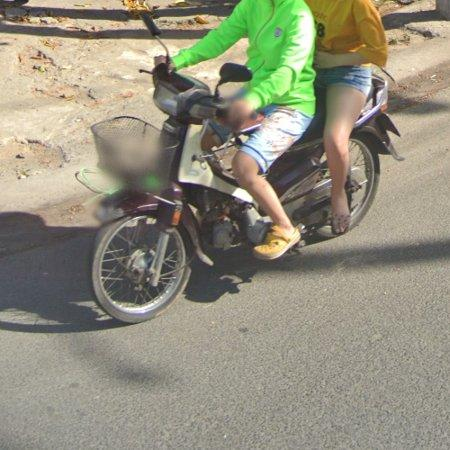motorcycles: (346, 75, 400, 228)
